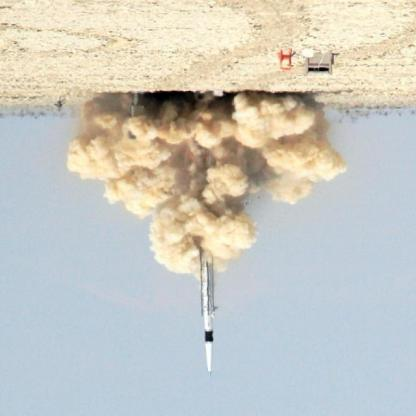MIL_TBM: (202, 267, 215, 382)
